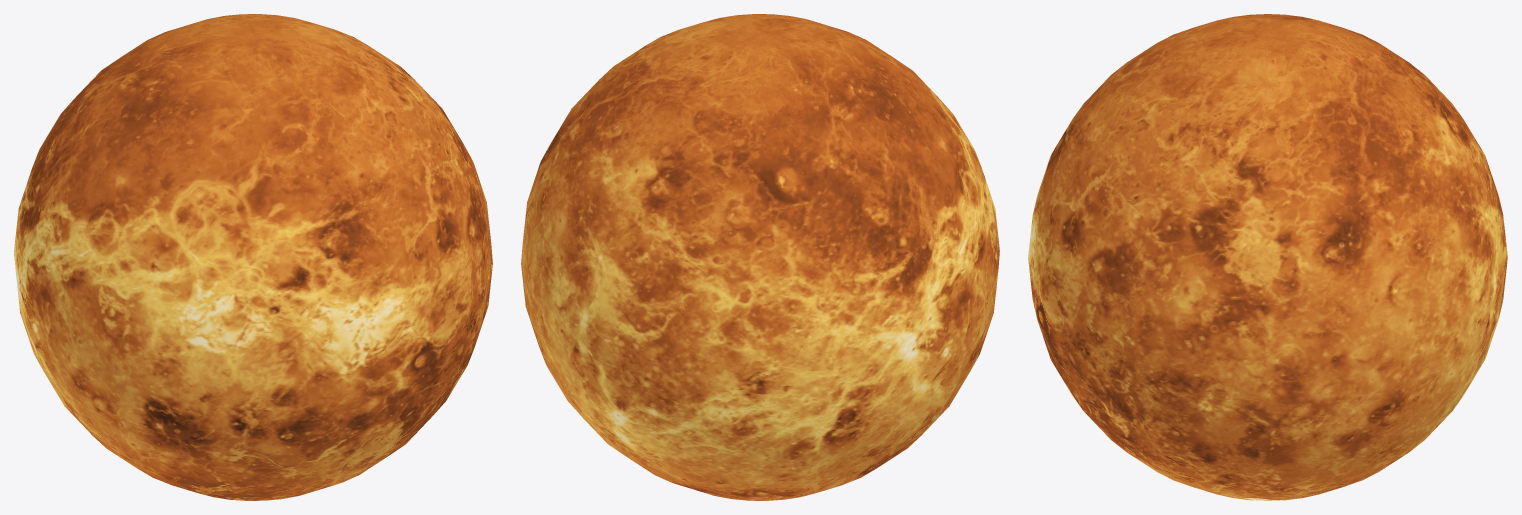
File: venus.glb
3 renders of one model, left to right at view 1: azimuth 30°, elevation 25°; view 2: azimuth 150°, elevation 25°; view 3: azimuth 270°, elevation 25°, orthographic.
Visible parts, largest first — view 1: Esfera; view 2: Esfera; view 3: Esfera.
Boxes of the visible parts, bbox=[...] form: Esfera: bbox=[14, 14, 492, 500]; Esfera: bbox=[521, 14, 999, 500]; Esfera: bbox=[1028, 14, 1507, 500].
Bounding box in the file's own units: 1.89 × 1.92 × 1.89.
Materials: 1 (1 with a texture image).
